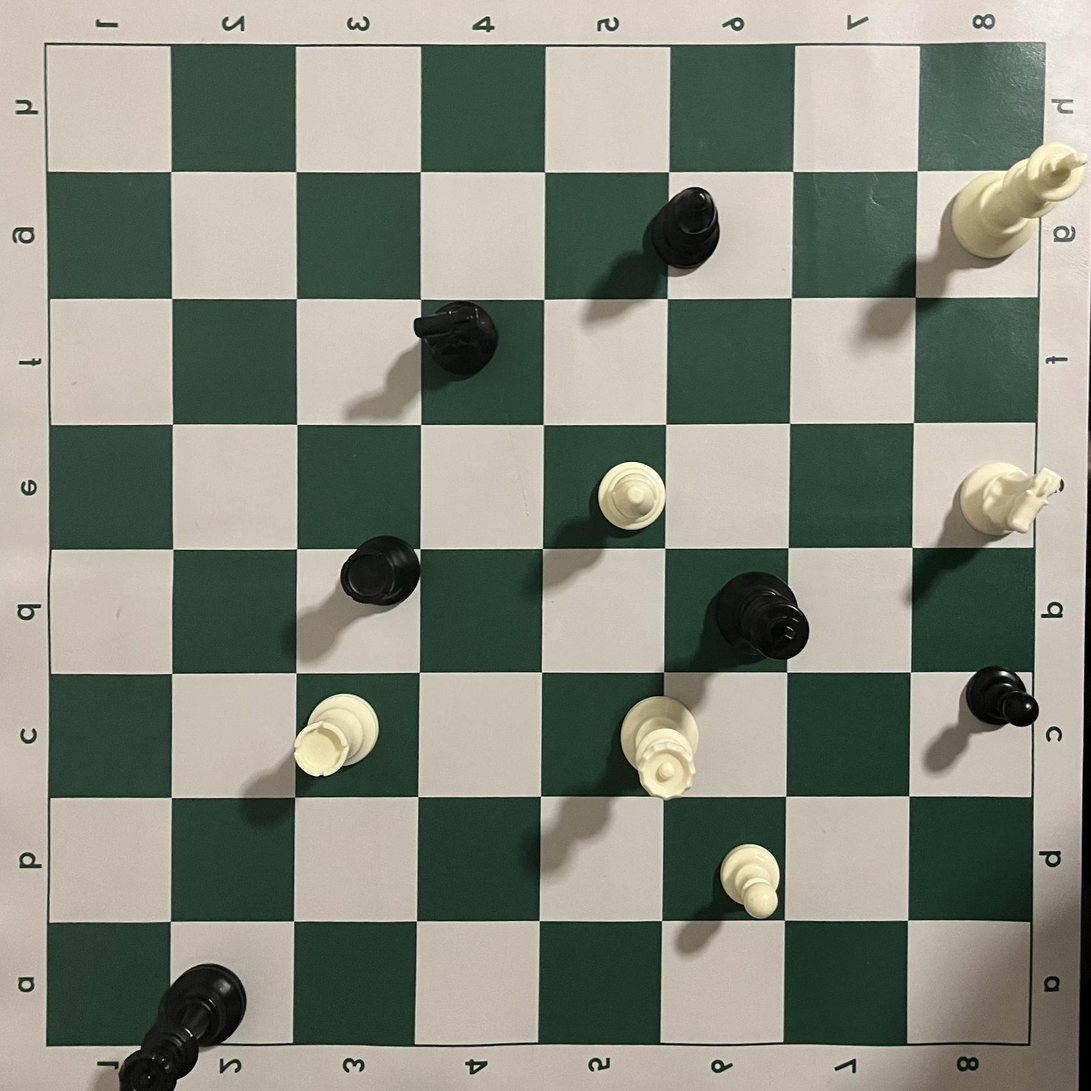black_bishop: (647, 186, 722, 272)
black_king: (715, 570, 811, 662)
black_knight: (413, 300, 500, 375)
black_pawn: (965, 664, 1040, 728)
black_queen: (116, 962, 248, 1091)
black_rook: (339, 534, 422, 607)
white_bishop: (597, 460, 667, 531)
white_king: (949, 141, 1089, 260)
white_knight: (958, 460, 1065, 537)
white_pawn: (719, 843, 782, 920)
white_queen: (619, 694, 700, 803)
white_rook: (293, 692, 380, 778)
